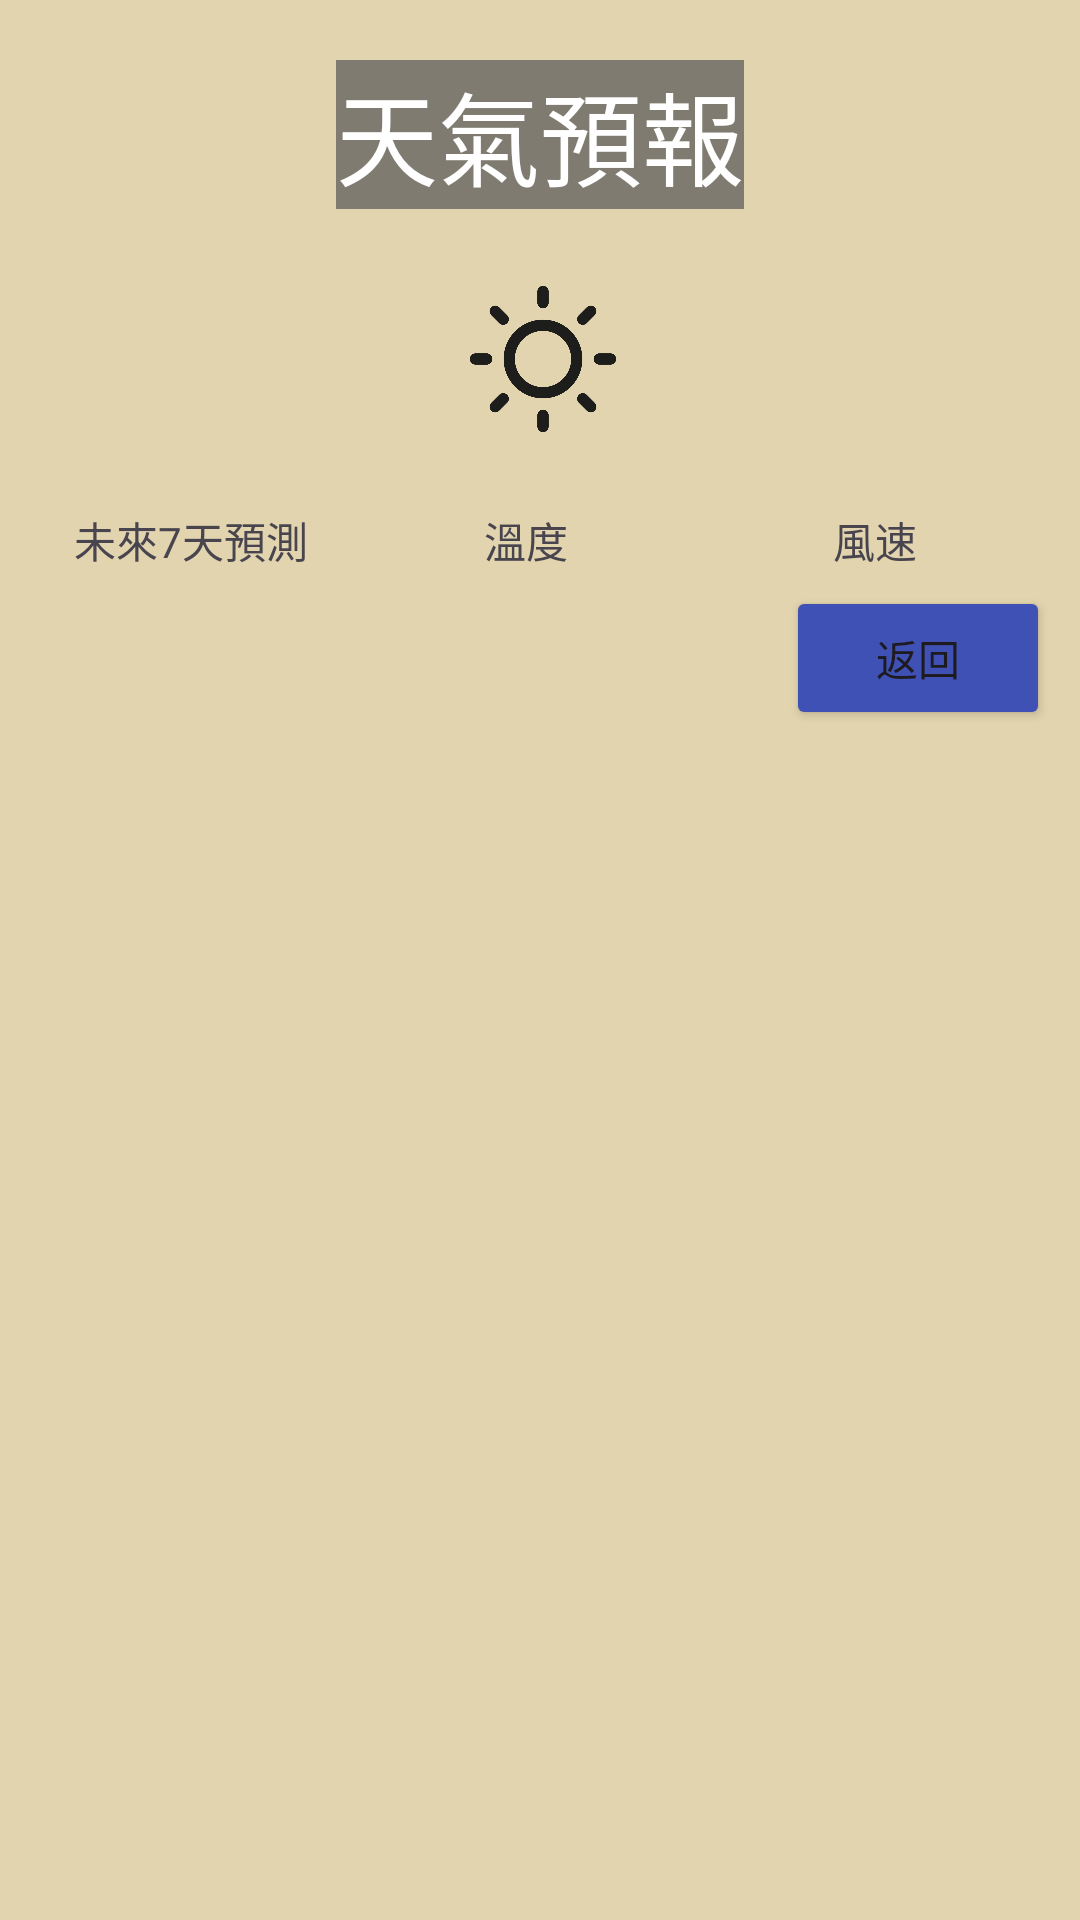

Point at icon controls on the screen. Image size 1080×1920, points as point (x, y).
sun: point (543, 359)
